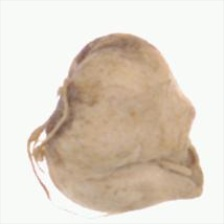L3: (165, 107, 211, 201)
L4: (29, 34, 205, 215)
